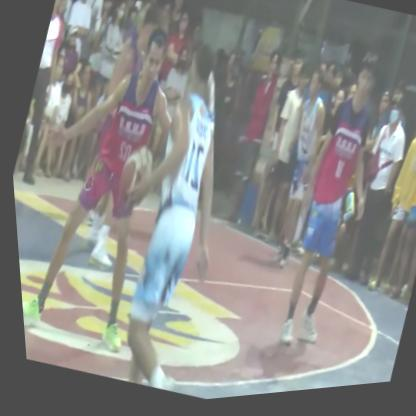basketball: (103, 143, 159, 220)
